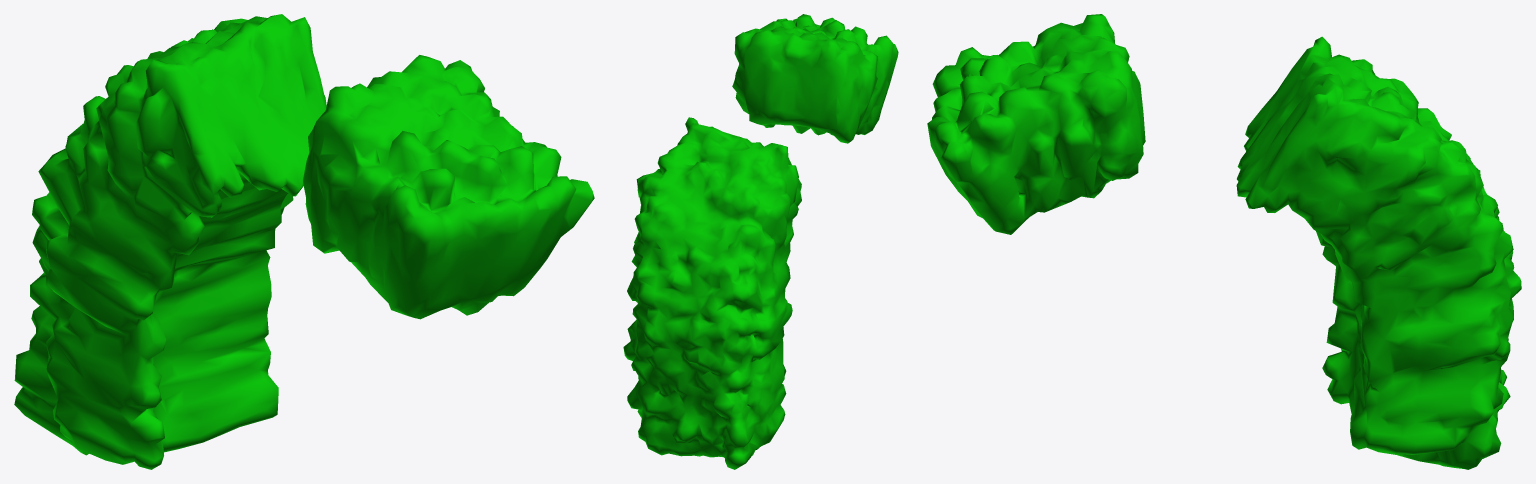
Rendered from mohawk green.glb.
3 views of the same model, side by side, from view 1: azimuth 30°, elevation 25°; view 2: azimuth 150°, elevation 25°; view 3: azimuth 270°, elevation 25° (orthographic). The views are drawn at different scales.
Visible parts, largest first — view 1: hair_short_mohawk_green.001; view 2: hair_short_mohawk_green.001; view 3: hair_short_mohawk_green.001.
Boxes of the visible parts, x1,y1,x2,y2 form: hair_short_mohawk_green.001: [14, 14, 594, 469]; hair_short_mohawk_green.001: [623, 14, 898, 469]; hair_short_mohawk_green.001: [927, 14, 1521, 469].
Size of the model in its own units: 0.1865 by 0.3262 by 0.4067.
1 material, 1 textured.
